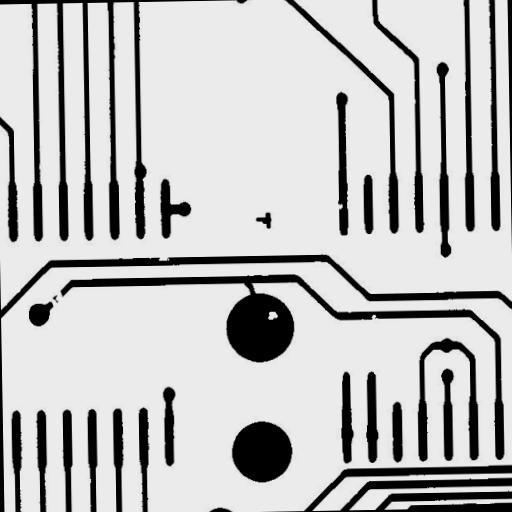copper: (248, 204, 279, 236)
mousebite: (150, 249, 177, 268), (363, 306, 386, 328), (328, 196, 350, 217)
open: (38, 284, 70, 318)
pin-hole: (260, 304, 285, 326)
short: (236, 272, 265, 306)
